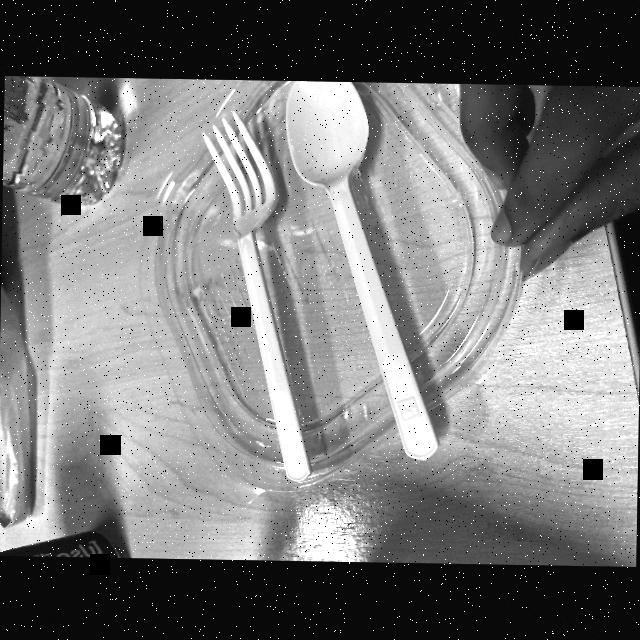plastic_spoon: (270, 80, 458, 470), (188, 104, 320, 486)
